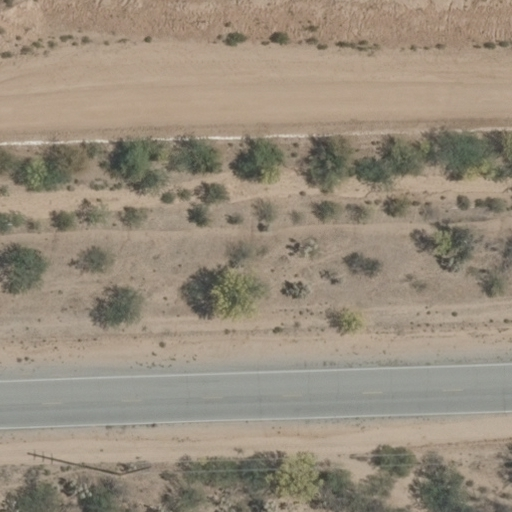DT: (106, 459, 153, 482)
